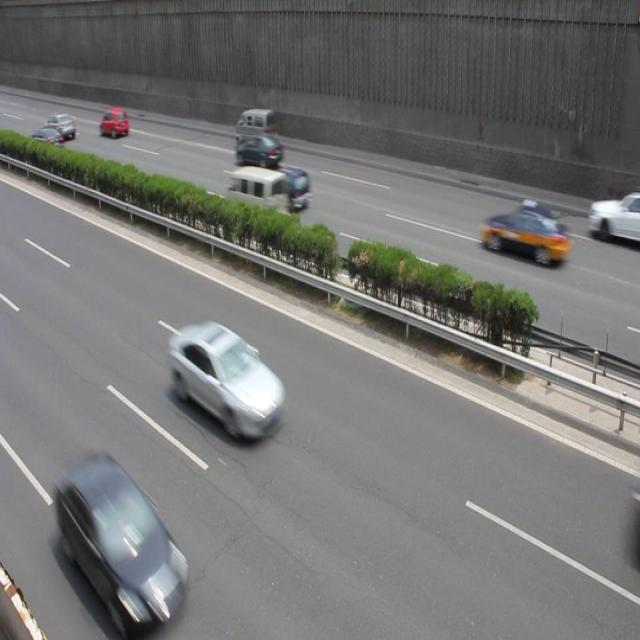car: (55, 453, 190, 607), (170, 321, 288, 442), (481, 196, 572, 269), (588, 191, 640, 246), (266, 166, 310, 213), (235, 133, 284, 170), (31, 127, 64, 159), (98, 109, 128, 139), (45, 113, 76, 139)
truck: (223, 168, 289, 229), (234, 106, 277, 148)
